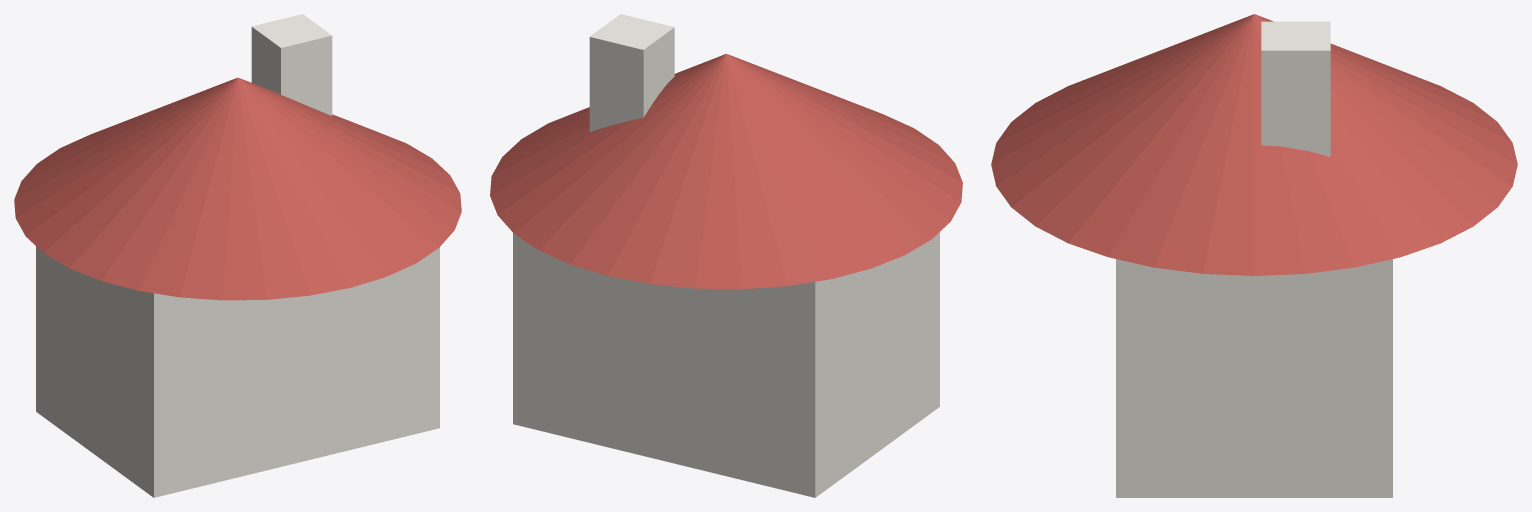
Rendered from t3_house.glb.
3 views of the same model, side by side, from view 1: azimuth 30°, elevation 25°; view 2: azimuth 150°, elevation 25°; view 3: azimuth 270°, elevation 25° (orthographic). The views are drawn at different scales.
Visible parts, largest first — view 1: Walls, Roof, Chimney; view 2: Walls, Roof, Chimney; view 3: Roof, Walls, Chimney.
Part boxes in pixels (x1,y1,x2,y2): Walls: (36, 246, 439, 497); Roof: (14, 77, 461, 300); Chimney: (251, 14, 332, 115); Walls: (513, 232, 939, 497); Roof: (490, 54, 962, 289); Chimney: (589, 14, 674, 132); Roof: (991, 14, 1517, 275); Walls: (1116, 259, 1392, 497); Chimney: (1261, 21, 1330, 156).
Bounding box in the file's own units: 3.8 × 3.35 × 3.8.
